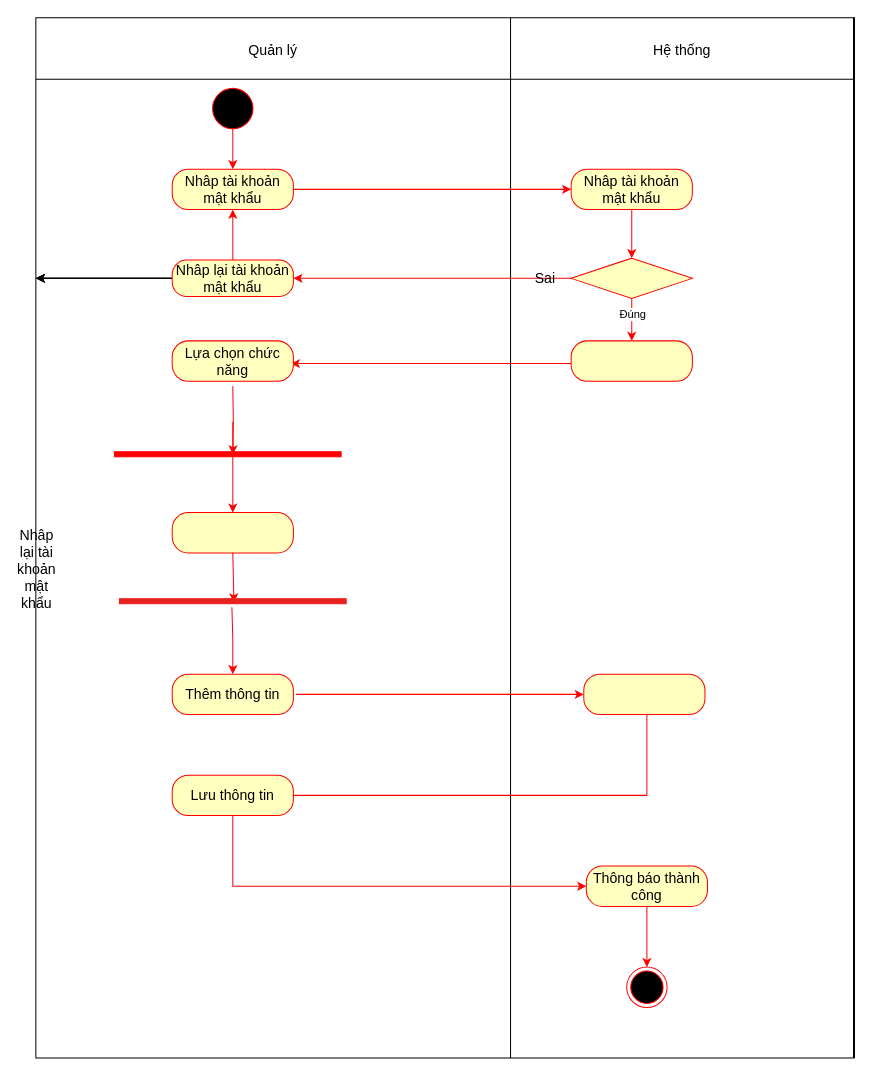
Some shapes in this 872 by 1076 pixel diagram are drawn without their labels. Each missing label, with the centre of its shape:
Cung cấp thông tin phản hồi: (x=644, y=694)
Hiển thị giao diện quản lý: (x=631, y=360)
Thêm sản phẩm: (x=232, y=532)
